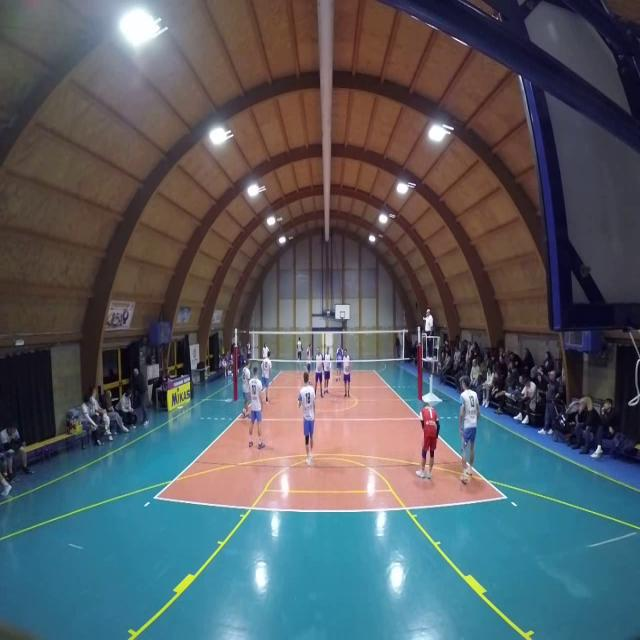serve: (295, 334, 304, 368)
